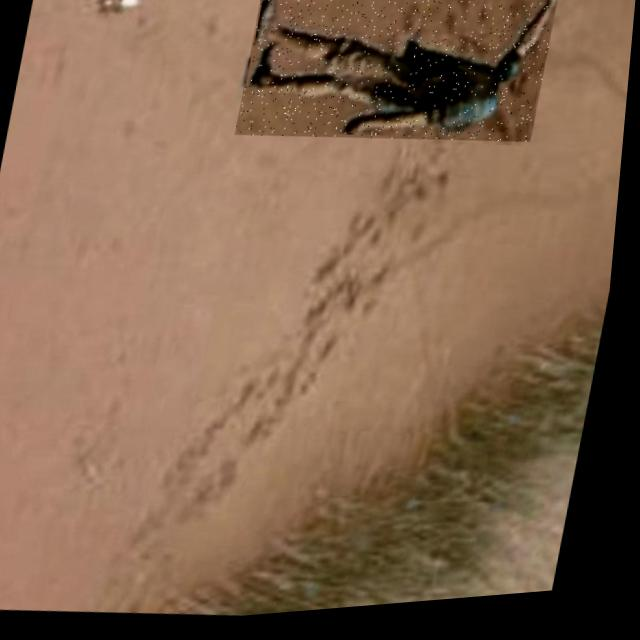Person in Rubble: (234, 0, 562, 169)
